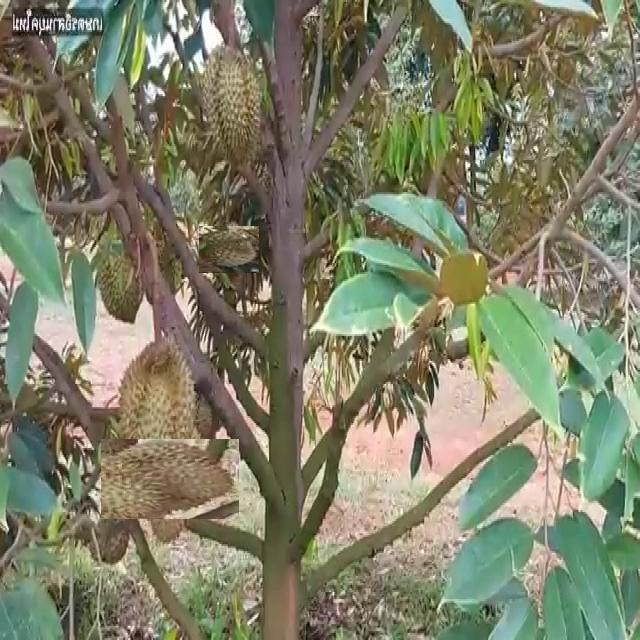durian: (113, 328, 201, 493), (115, 425, 225, 534), (198, 38, 265, 178), (91, 220, 147, 324), (202, 222, 256, 276)
